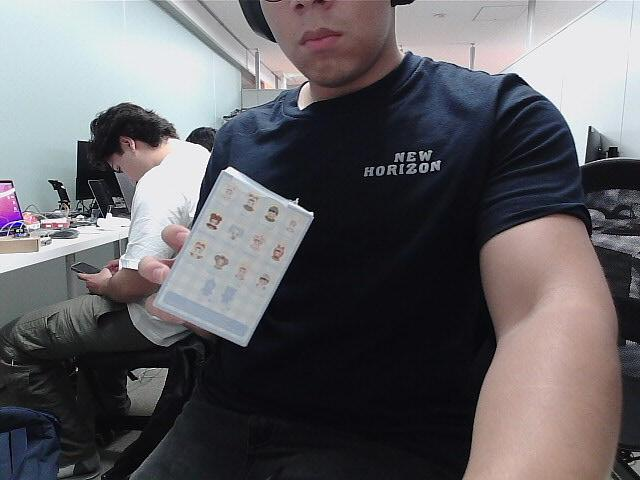Blind_box: (146, 162, 325, 354)
